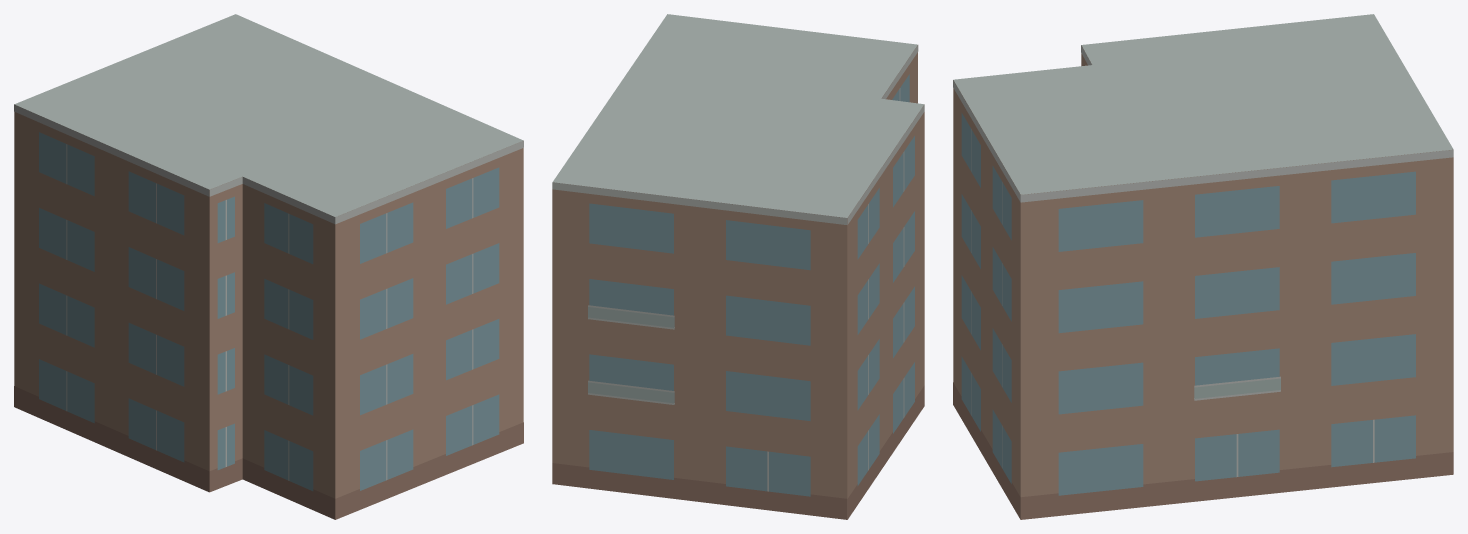
Rendered from survey-upis-32696071.glb.
3 renders of one model, left to right at view 1: azimuth 30°, elevation 25°; view 2: azimuth 150°, elevation 25°; view 3: azimuth 270°, elevation 25°, orthographic. The views are drawn at different scales.
Parts seen in each view (by area): view 1: survey-upis-32696071.tmp; view 2: survey-upis-32696071.tmp; view 3: survey-upis-32696071.tmp.
Boxes of the visible parts, x1,y1,x2,y2 form: survey-upis-32696071.tmp: (14,14,523,519); survey-upis-32696071.tmp: (552,14,924,519); survey-upis-32696071.tmp: (953,14,1453,519).
Size of the model in its own units: 12.25 by 10.26 by 14.33.
